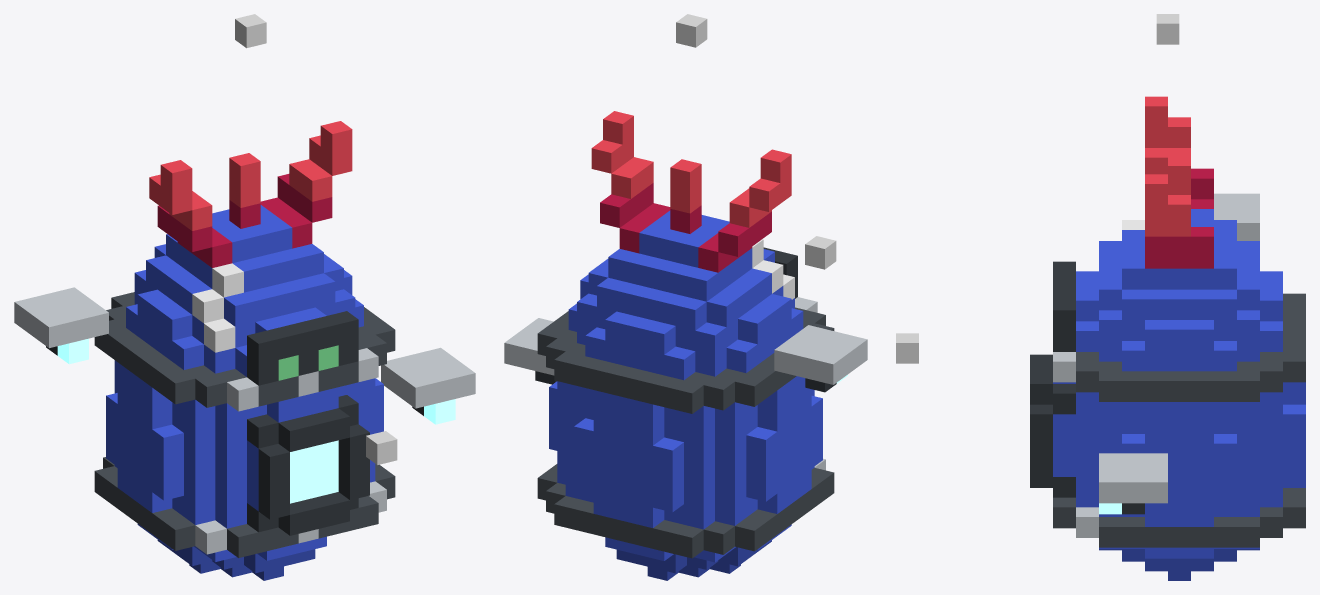
File: Egg_Hive.fbx
The picture shows the model from 3 angles, left to right: view 1: azimuth 30°, elevation 25°; view 2: azimuth 150°, elevation 25°; view 3: azimuth 270°, elevation 25°; orthographic projection.
Parts seen in each view (by area): view 1: Egg__Tint_100, Egg, Ornament, Egg__Orbit, Egg__Neon_57CC99, Egg__Tint_080, Egg__Orbit_Neon_57CC99, TopMarker, FrontMarker; view 2: Egg__Tint_100, Egg, Ornament, Egg__Orbit, Egg__Tint_080, TopMarker, FrontMarker; view 3: Egg__Tint_100, Egg, Ornament, Egg__Orbit, Egg__Tint_080, TopMarker, FrontMarker.
Boxes of the visible parts, x1,y1,x2,y2 form: Egg__Tint_100: [106, 205, 383, 561]; Egg: [94, 263, 395, 557]; Ornament: [149, 121, 352, 267]; Egg__Orbit: [14, 287, 475, 415]; Egg__Neon_57CC99: [290, 440, 338, 503]; Egg__Tint_080: [157, 540, 315, 580]; Egg__Orbit_Neon_57CC99: [57, 338, 455, 424]; TopMarker: [235, 14, 266, 48]; FrontMarker: [366, 431, 397, 464]; Egg__Tint_100: [549, 210, 822, 562]; Egg: [537, 239, 834, 558]; Ornament: [591, 111, 791, 272]; Egg__Orbit: [504, 318, 867, 392]; Egg__Tint_080: [616, 540, 771, 580]; TopMarker: [676, 14, 707, 47]; FrontMarker: [805, 236, 836, 269]; Egg__Tint_100: [1053, 209, 1305, 558]; Egg: [1030, 220, 1305, 547]; Ornament: [1145, 96, 1213, 268]; Egg__Orbit: [1099, 193, 1259, 514]; Egg__Tint_080: [1099, 549, 1259, 580]; TopMarker: [1156, 14, 1179, 44]; FrontMarker: [896, 333, 918, 363].
Size of the model in its own units: 3.56 by 4.84 by 3.34.
